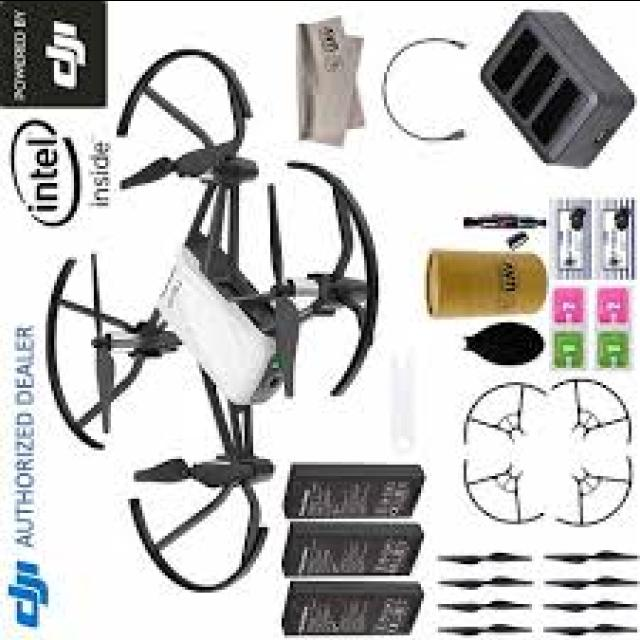drone: (43, 44, 377, 600)
